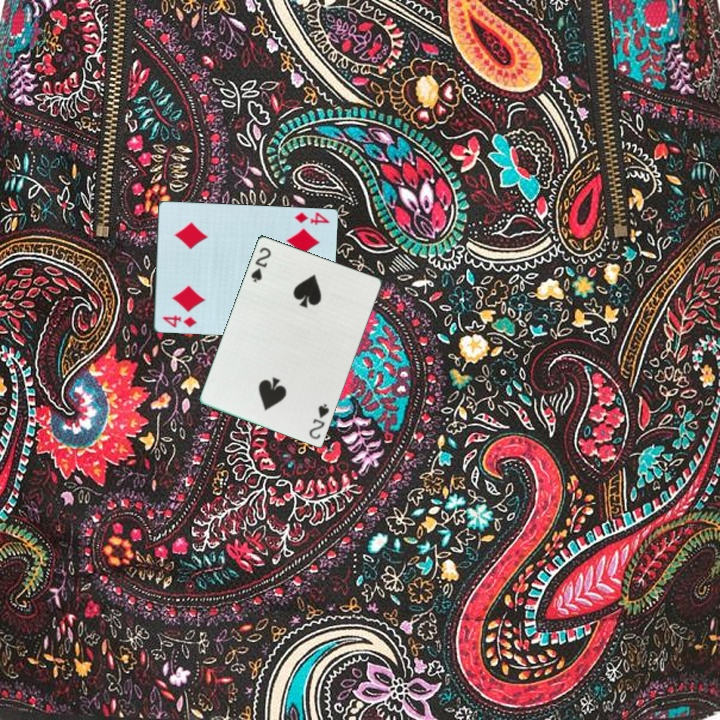2s: (247, 243, 274, 285), (305, 400, 332, 442)
4d: (158, 312, 199, 331), (291, 209, 332, 228)
